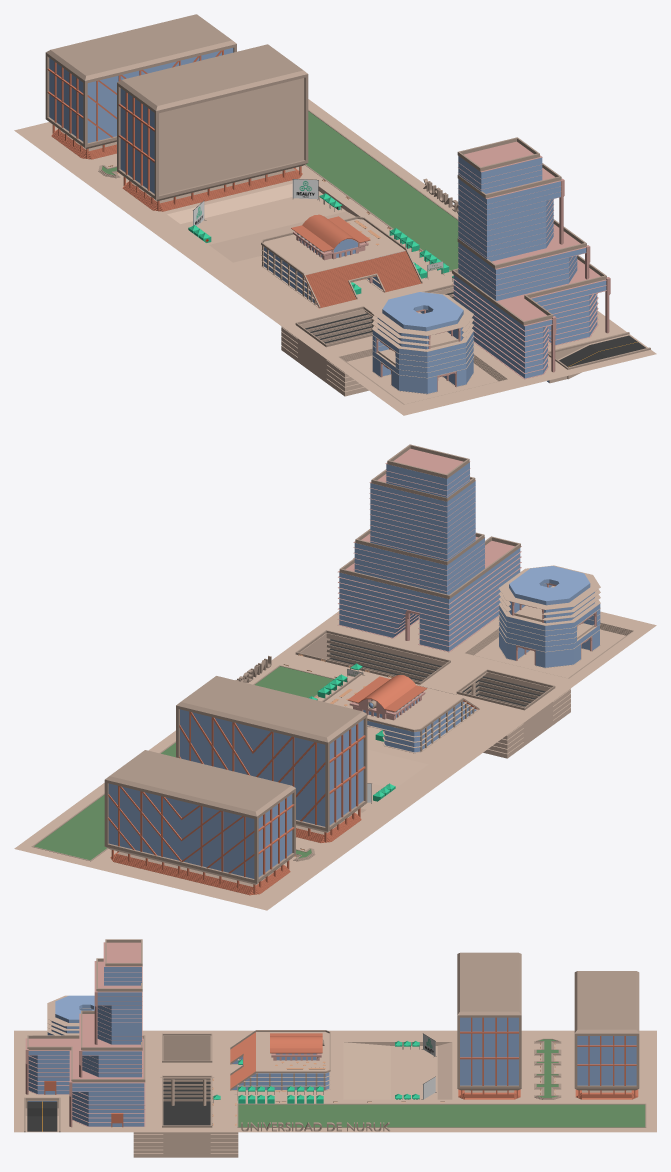
The model's file is Universidad_001.fbx.
3 renders of one model, top to bottom at view 1: azimuth 30°, elevation 25°; view 2: azimuth 150°, elevation 25°; view 3: azimuth 270°, elevation 25°, orthographic. The views are drawn at different scales.
Parts seen in each view (by area): view 1: Plane.009, Cube.018, Plane.016, Cube.021, Plane.012, Plane.022, Cube.024, Plane.017, Cube.026, Plane.021, Plane.020, Cube.020 (+7 smaller); view 2: Plane.009, Plane.016, Cube.021, Cube.018, Plane.012, Plane.022, Cube.024, Plane.017, Cube.022, Cube.020, Plane.021, Plane.010 (+6 smaller); view 3: Plane.009, Plane.016, Cube.018, Cube.021, Plane.012, Cube.024, Plane.017, Cube.032, Cube.023, Cube.027, Plane.022, Cube.020 (+9 smaller).
Boxes of the visible parts, x1,y1,x2,y2 form: Plane.009: (14, 99, 656, 415); Cube.018: (117, 44, 308, 211); Plane.016: (453, 156, 606, 378); Cube.021: (45, 14, 236, 159); Plane.012: (452, 141, 606, 379); Plane.022: (372, 292, 473, 393); Cube.024: (261, 214, 405, 307); Plane.017: (452, 137, 606, 325); Cube.026: (303, 251, 422, 308); Plane.021: (372, 291, 474, 394); Plane.020: (347, 355, 498, 404); Cube.020: (118, 92, 301, 211); Plane.009: (14, 611, 656, 910); Plane.016: (339, 462, 520, 651); Cube.021: (104, 750, 295, 895); Cube.018: (176, 676, 367, 842); Plane.012: (338, 448, 521, 652); Plane.022: (499, 566, 600, 667); Cube.024: (325, 675, 478, 753); Plane.017: (339, 444, 520, 598); Cube.022: (108, 786, 294, 894); Cube.020: (179, 711, 365, 842); Plane.021: (498, 565, 600, 668); Plane.010: (327, 640, 543, 707); Plane.009: (14, 1030, 656, 1157); Plane.016: (28, 967, 144, 1126); Cube.018: (457, 952, 521, 1099); Cube.021: (574, 971, 639, 1099); Plane.012: (25, 942, 145, 1126); Cube.024: (230, 1032, 330, 1090); Plane.017: (27, 939, 145, 1082); Cube.032: (160, 1062, 214, 1105); Cube.023: (534, 1038, 561, 1099); Cube.027: (232, 1056, 329, 1089); Plane.022: (47, 995, 94, 1035); Cube.020: (460, 1017, 518, 1098).
Size of the model in its own units: 6507 by 5254 by 17352.
19 materials, 1 textured.
